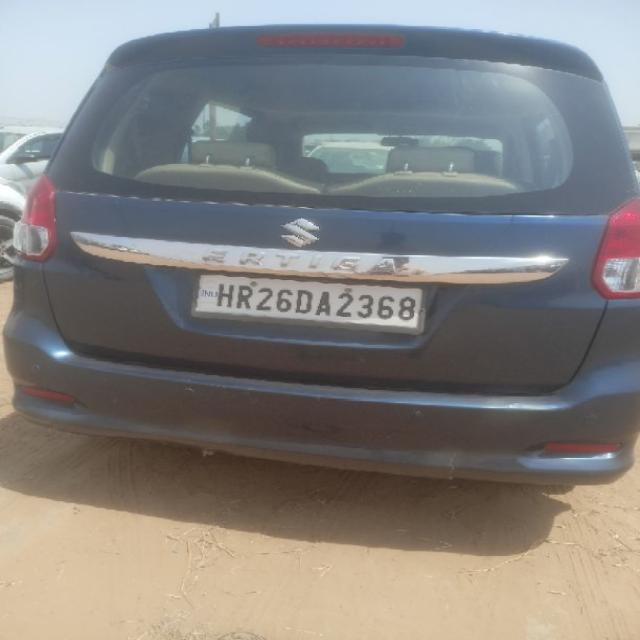license_plate: (189, 272, 427, 336)
